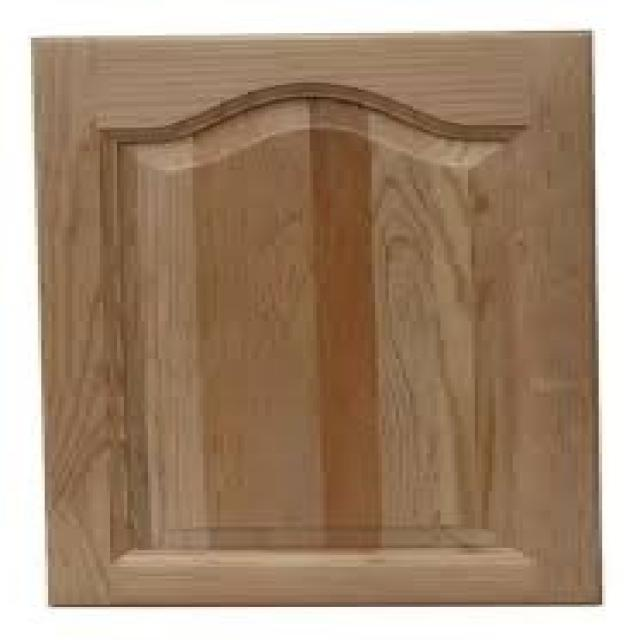door: (31, 30, 602, 608)
